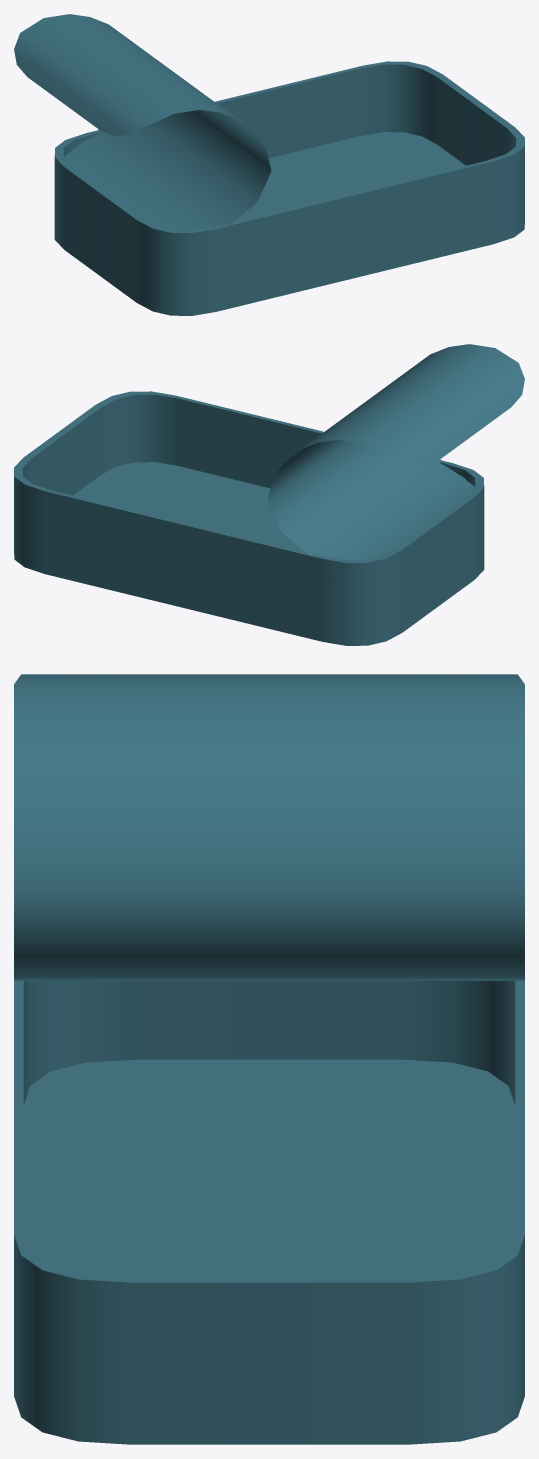
The model's file is SM_SmallTrashkit_Tona_001.fbx.
3 views of the same model, one above another, from view 1: azimuth 30°, elevation 25°; view 2: azimuth 150°, elevation 25°; view 3: azimuth 270°, elevation 25° (orthographic). The views are drawn at different scales.
Parts seen in each view (by area): view 1: SM_SmallTrashkit_Tona_001; view 2: SM_SmallTrashkit_Tona_001; view 3: SM_SmallTrashkit_Tona_001.
Boxes of the visible parts, left/top/right/bottom form: SM_SmallTrashkit_Tona_001: left=14, top=14, right=524, bottom=315; SM_SmallTrashkit_Tona_001: left=14, top=344, right=524, bottom=645; SM_SmallTrashkit_Tona_001: left=14, top=674, right=524, bottom=1444.
Size of the model in its own units: 17.05 by 8.17 by 9.29.
